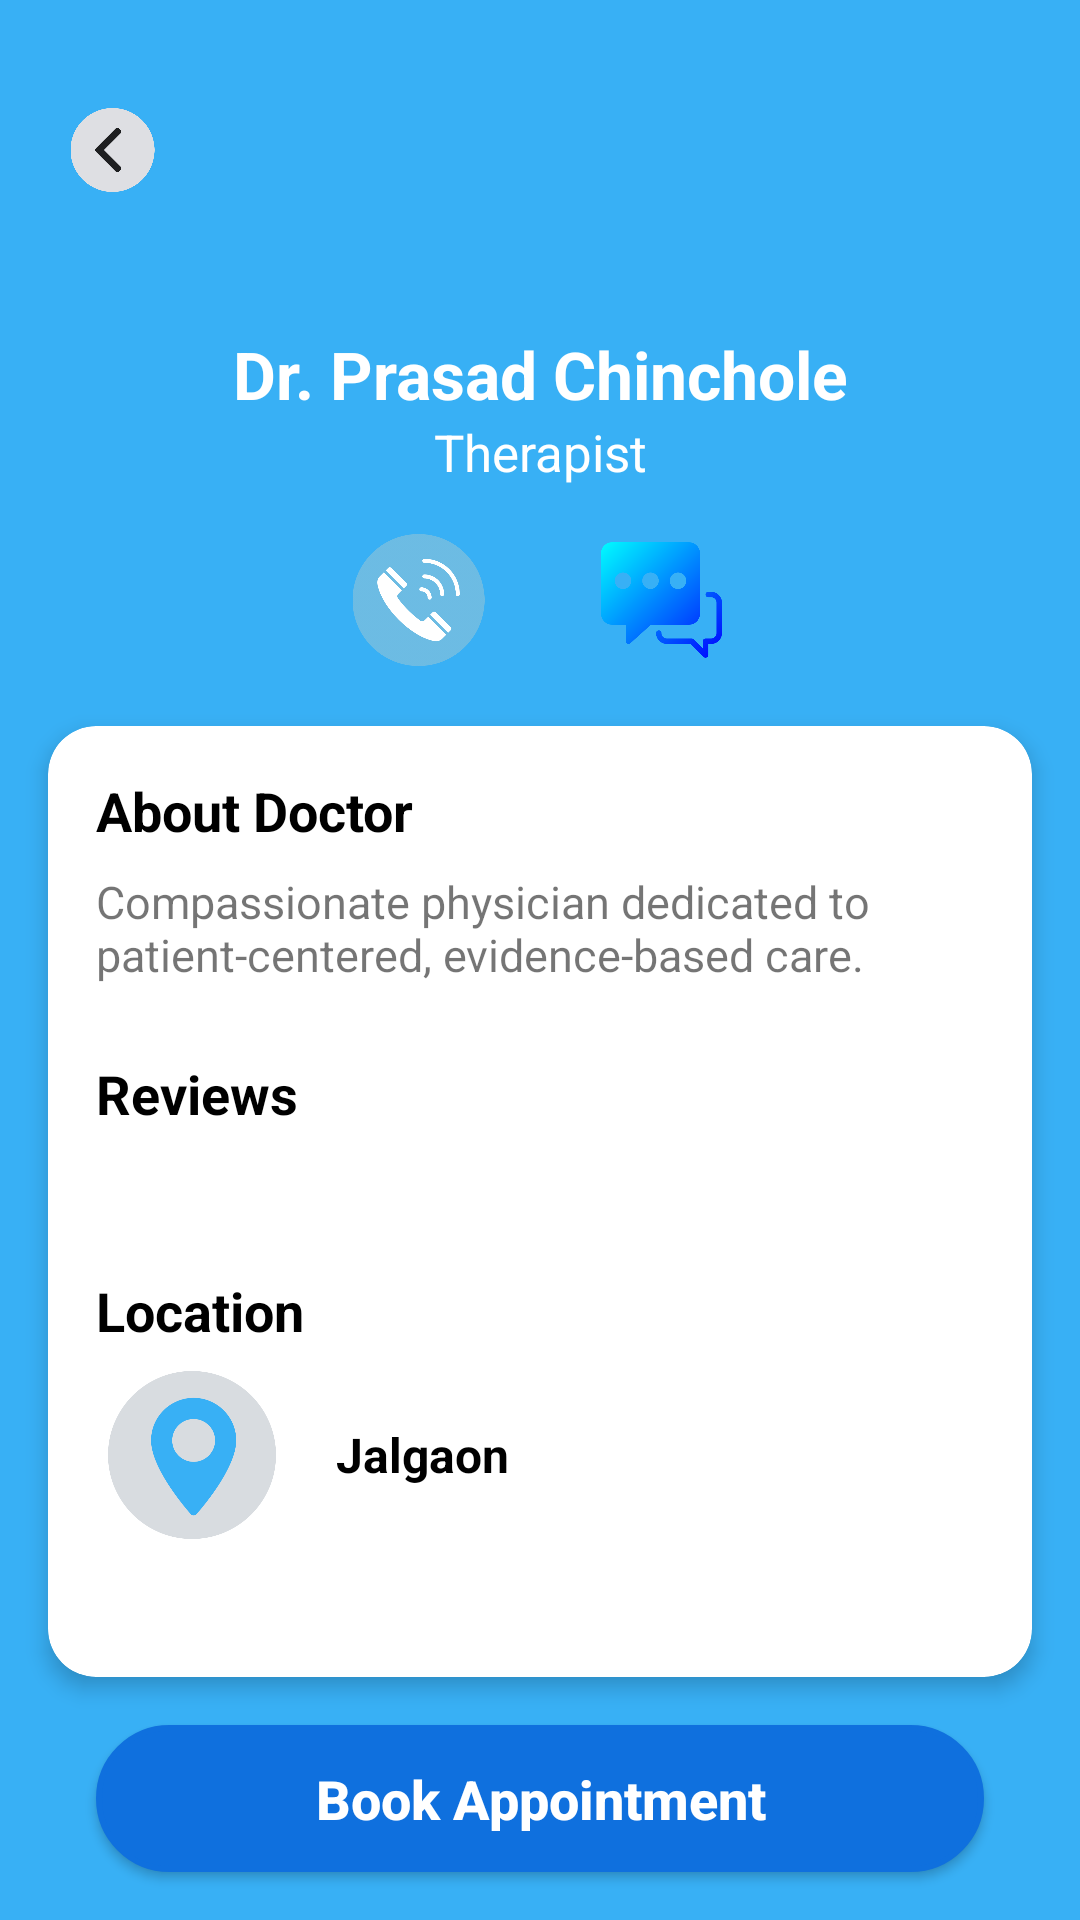

Locate icon controls on the screen. Image size 1080w x 1920h, boxes as (x1, y1, x2, y2).
maps: (108, 1371, 276, 1539)
message: (601, 542, 722, 658)
phone: (353, 534, 485, 666)
